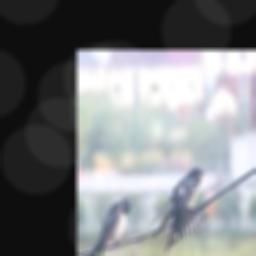Swallow: (152, 167, 209, 255), (85, 198, 131, 256)
